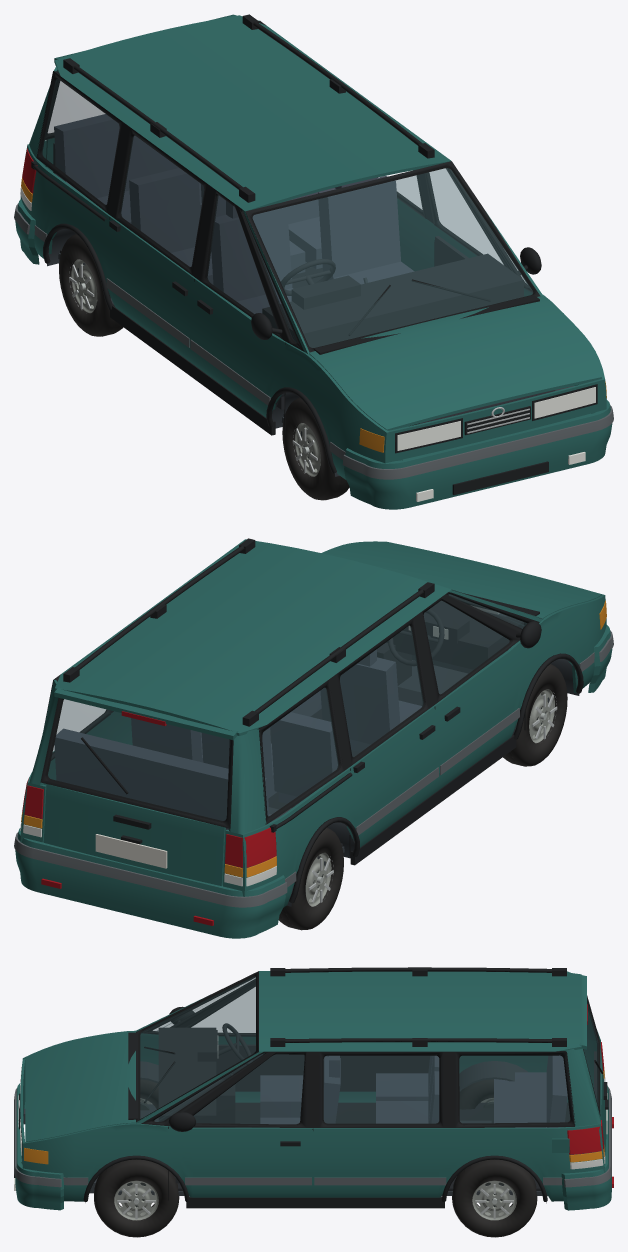
Rendered from fernleigh.glb.
The picture shows the model from 3 angles, top to bottom: view 1: azimuth 30°, elevation 25°; view 2: azimuth 150°, elevation 25°; view 3: azimuth 270°, elevation 25°; orthographic projection. The views are drawn at different scales.
Visible parts, largest first — view 1: panel_RoofFernleigh, glass_FrontFernleigh, panel_hoodFernleigh, Interior Fernleigh Dashboard, panel_BodyDoorLFernleigh, panel_BodyDoorRearLFernleigh, glass_BodyDoorRearLFernleigh, Interior Fernleigh SeatBack1, panel_bumper_frontFernleigh, glass_RearLFernleigh, Interior Fernleigh RearBack, Interior Fernleigh SeatBack-1 (+39 smaller); view 2: panel_RoofFernleigh, glass_TailgateFernleigh, panel_TailgateFernleigh, Interior Fernleigh RearBack, panel_hoodFernleigh, panel_bumper_rearFernleigh, panel_BodyDoorLFernleigh, glass_BodyDoorRearLFernleigh, panel_BodyDoorRearLFernleigh, glass_RearLFernleigh, Interior Fernleigh MiddleBack-0.52, panel_RearQuarterLFernleigh (+44 smaller); view 3: panel_RoofFernleigh, panel_RearQuarterRFernleigh, panel_hoodFernleigh, glass_FrontFernleigh, panel_BodyDoorRFernleigh, glass_MidRFernleigh, glass_RearRFernleigh, panel_FrontWingRFernleigh, glass_BodyDoorRFernleigh, Tire_Tern_Carcass_FR, Tire_Tern_Carcass_RR, Interior Fernleigh Dashboard (+57 smaller).
Part boxes in pixels (<box>): panel_RoofFernleigh: <box>54,15,450,211</box>; glass_FrontFernleigh: <box>253,168,532,347</box>; panel_hoodFernleigh: <box>309,296,601,430</box>; Interior Fernleigh Dashboard: <box>262,253,523,347</box>; panel_BodyDoorLFernleigh: <box>190,278,286,417</box>; panel_BodyDoorRearLFernleigh: <box>105,216,195,363</box>; glass_BodyDoorRearLFernleigh: <box>120,136,203,266</box>; Interior Fernleigh SeatBack1: <box>318,176,400,277</box>; panel_bumper_frontFernleigh: <box>402,413,594,507</box>; glass_RearLFernleigh: <box>42,79,119,204</box>; Interior Fernleigh RearBack: <box>54,114,178,197</box>; Interior Fernleigh SeatBack-1: <box>211,207,292,301</box>; panel_RoofFernleigh: <box>54,539,451,735</box>; glass_TailgateFernleigh: <box>48,699,229,820</box>; panel_TailgateFernleigh: <box>43,784,225,885</box>; Interior Fernleigh RearBack: <box>54,728,269,829</box>; panel_hoodFernleigh: <box>323,541,601,618</box>; panel_bumper_rearFernleigh: <box>33,841,227,936</box>; panel_BodyDoorLFernleigh: <box>433,640,528,791</box>; glass_BodyDoorRearLFernleigh: <box>340,626,423,756</box>; panel_BodyDoorRearLFernleigh: <box>349,706,438,847</box>; glass_RearLFernleigh: <box>262,688,338,815</box>; Interior Fernleigh MiddleBack-0.52: <box>271,712,337,798</box>; panel_RearQuarterLFernleigh: <box>240,768,354,907</box>; panel_RoofFernleigh: <box>259,971,581,1053</box>; panel_RearQuarterRFernleigh: <box>313,1123,605,1201</box>; panel_hoodFernleigh: <box>25,1031,135,1141</box>; glass_FrontFernleigh: <box>140,976,255,1118</box>; panel_BodyDoorRFernleigh: <box>168,1126,312,1197</box>; glass_MidRFernleigh: <box>324,1056,438,1123</box>; glass_RearRFernleigh: <box>459,1055,569,1122</box>; panel_FrontWingRFernleigh: <box>22,1123,168,1201</box>; glass_BodyDoorRFernleigh: <box>194,1054,304,1123</box>; Tire_Tern_Carcass_FR: <box>94,1159,179,1237</box>; Tire_Tern_Carcass_RR: <box>452,1159,537,1237</box>; Interior Fernleigh Dashboard: <box>158,1027,216,1127</box>.
Bounding box in the file's own units: 2.08 × 1.67 × 4.77.
